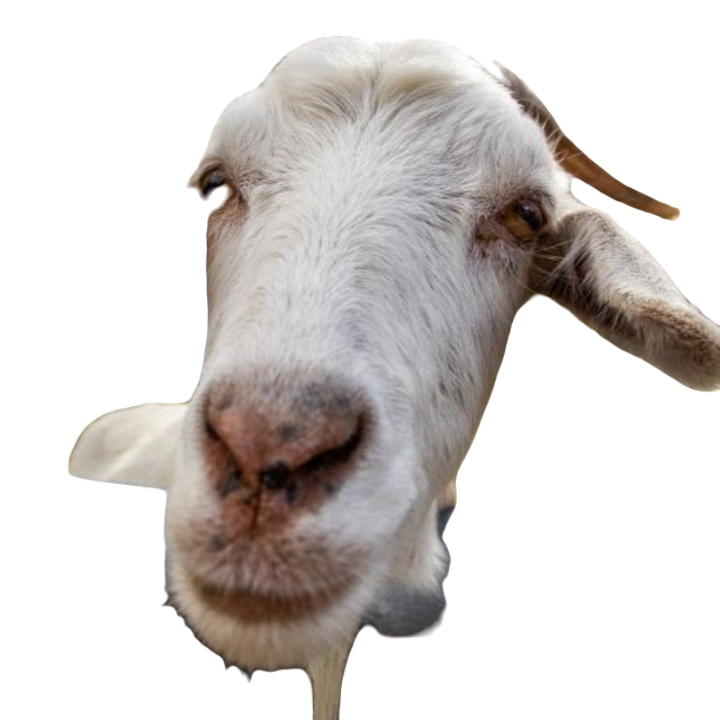Goat: (67, 34, 719, 719)
